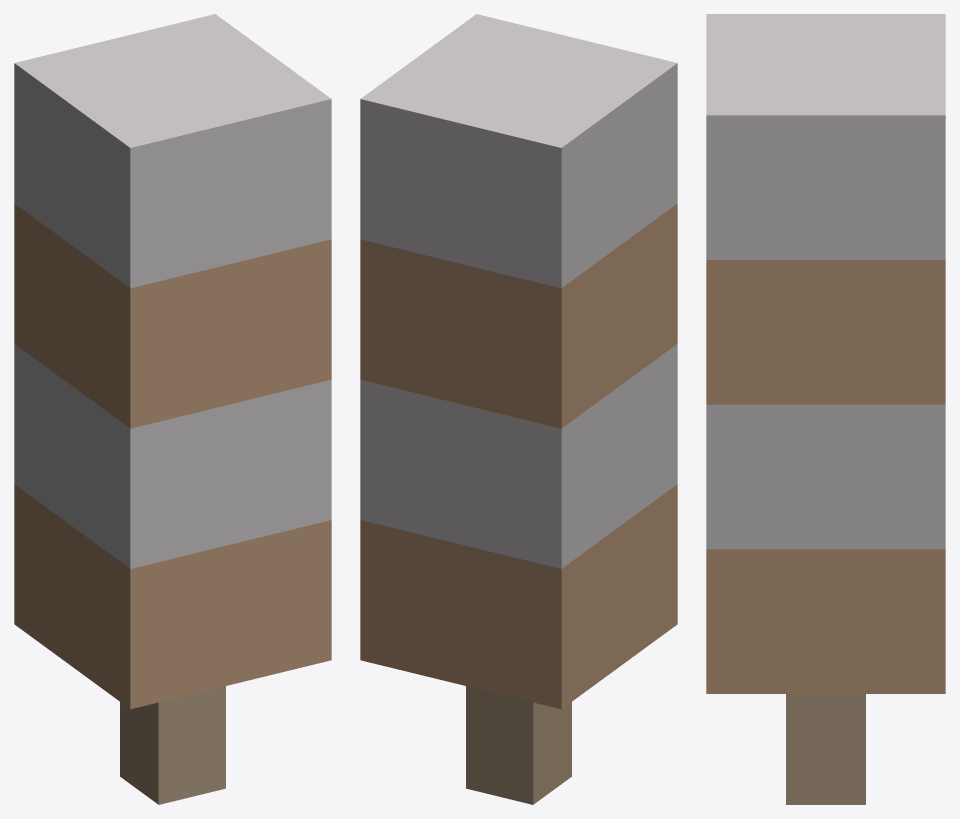
The model's file is item_sotteok.glb.
3 views of the same model, side by side, from view 1: azimuth 30°, elevation 25°; view 2: azimuth 150°, elevation 25°; view 3: azimuth 270°, elevation 25° (orthographic). The views are drawn at different scales.
Visible parts, largest first — view 1: item_sotteok; view 2: item_sotteok; view 3: item_sotteok.
Part boxes in pixels (<box>): item_sotteok: <box>14,14,331,804</box>; item_sotteok: <box>360,14,677,804</box>; item_sotteok: <box>706,14,945,804</box>.
Bounding box in the file's own units: 0.3 × 1 × 0.3.
